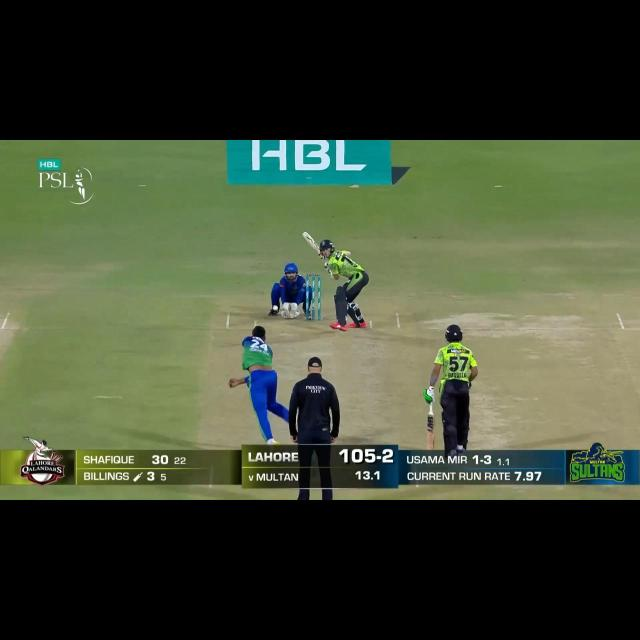bat: (302, 231, 325, 256), (427, 411, 435, 451)
toe: (300, 229, 313, 242)
